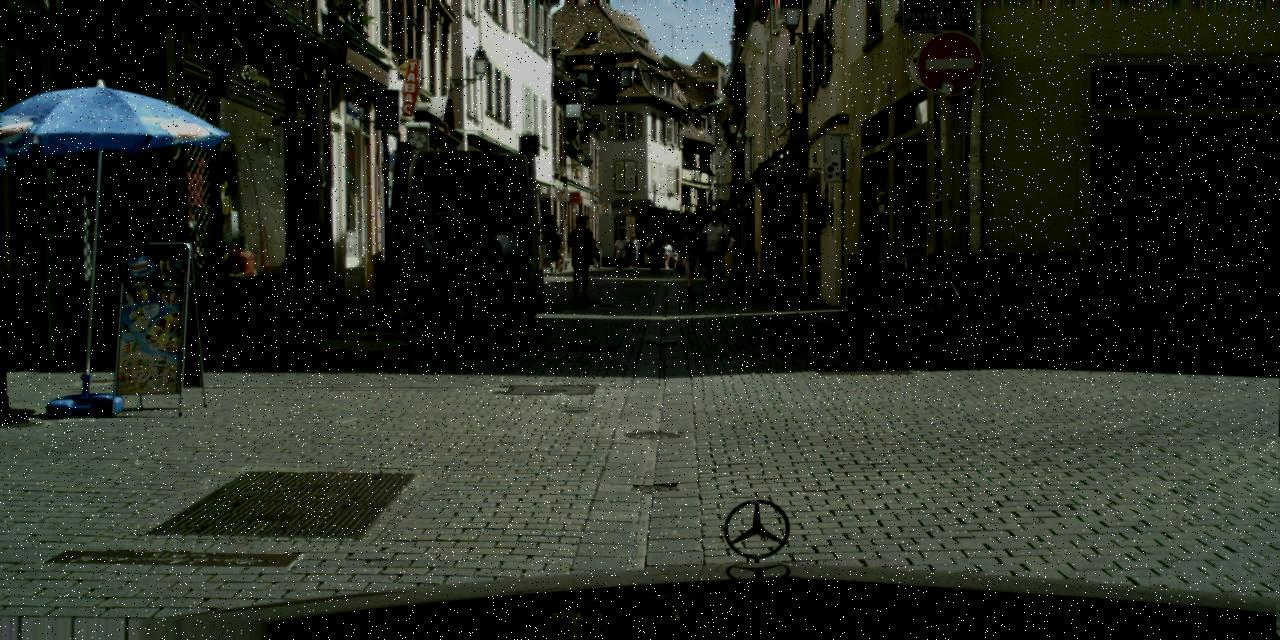ped: (421, 192, 475, 324), (696, 209, 730, 292), (564, 216, 596, 296), (674, 221, 704, 295), (486, 226, 516, 300), (417, 217, 442, 279), (545, 225, 564, 272), (689, 230, 707, 276), (614, 233, 628, 270), (648, 236, 662, 272), (625, 234, 639, 270), (645, 237, 658, 270), (660, 240, 671, 269), (656, 240, 666, 266), (669, 244, 678, 265), (671, 248, 678, 268)
